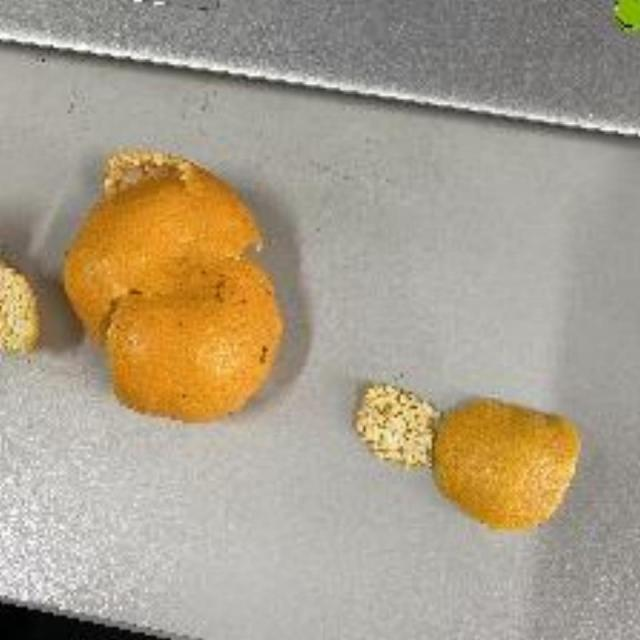orange-peel: (63, 147, 284, 423), (350, 377, 588, 538), (1, 254, 45, 356)
